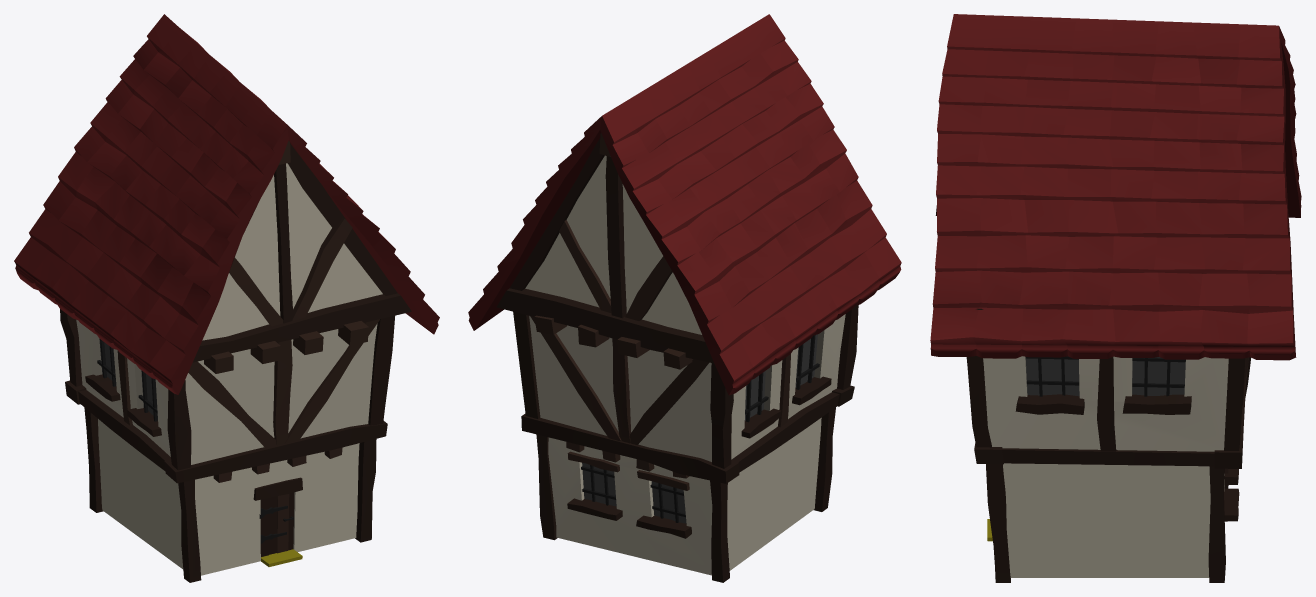
Rendered from Building02.fbx.
3 views of the same model, side by side, from view 1: azimuth 30°, elevation 25°; view 2: azimuth 150°, elevation 25°; view 3: azimuth 270°, elevation 25° (orthographic). The views are drawn at different scales.
Visible parts, largest first — view 1: BuildingHouse02; view 2: BuildingHouse02; view 3: BuildingHouse02.
Boxes of the visible parts, box(x1,y1,x2,y2) form: BuildingHouse02: box(14, 14, 439, 582); BuildingHouse02: box(468, 14, 901, 582); BuildingHouse02: box(930, 14, 1301, 582).
Bounding box in the file's own units: 2.52 × 3.97 × 2.61.
